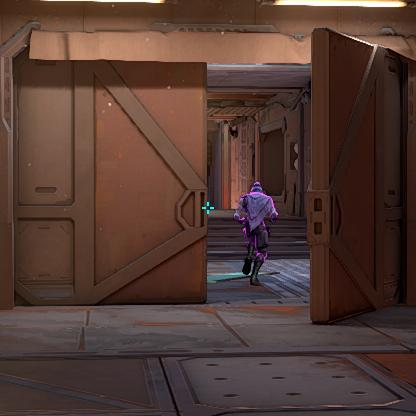enemyBody: (247, 197, 263, 225)
enemyHead: (253, 185, 260, 193)
